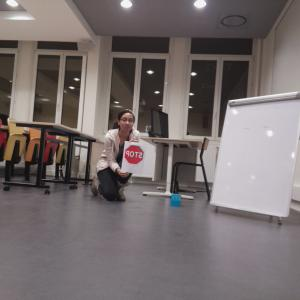big: (209, 92, 300, 220)
small: (170, 193, 182, 207)
